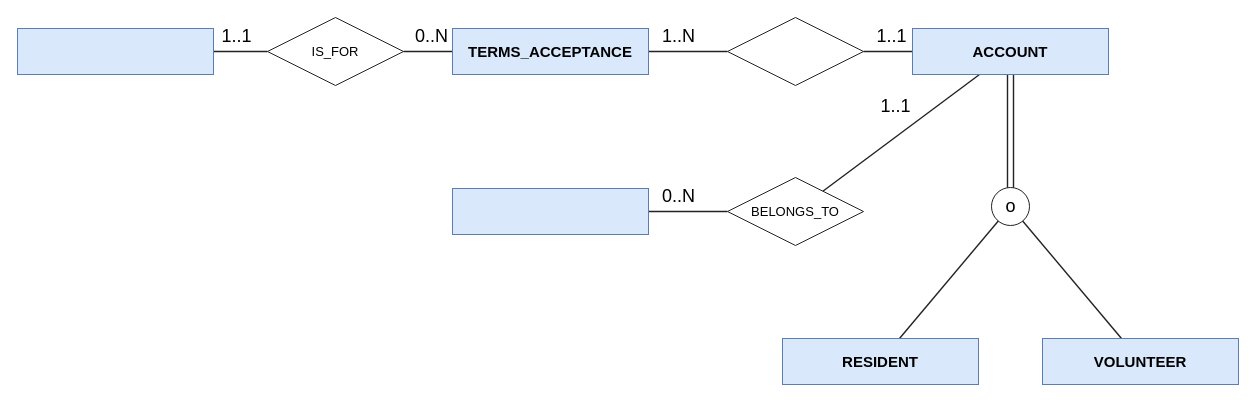
The diagram is 1256 pixels wide and 402 high, and some of its shapes have lost their labels. Each missing label, with the centre of its shape:
MAKES: the point at 795,51
PUSH_SUBSCRIPTION: the point at 550,211
TERMS_DOCUMENT: the point at 115,51
